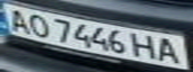4: (69, 20, 93, 47), (90, 25, 109, 51)
6: (109, 28, 130, 55)
7: (48, 16, 75, 43)
A: (154, 36, 184, 65), (3, 6, 33, 34)
H: (130, 31, 160, 60)
O: (24, 11, 54, 38)
